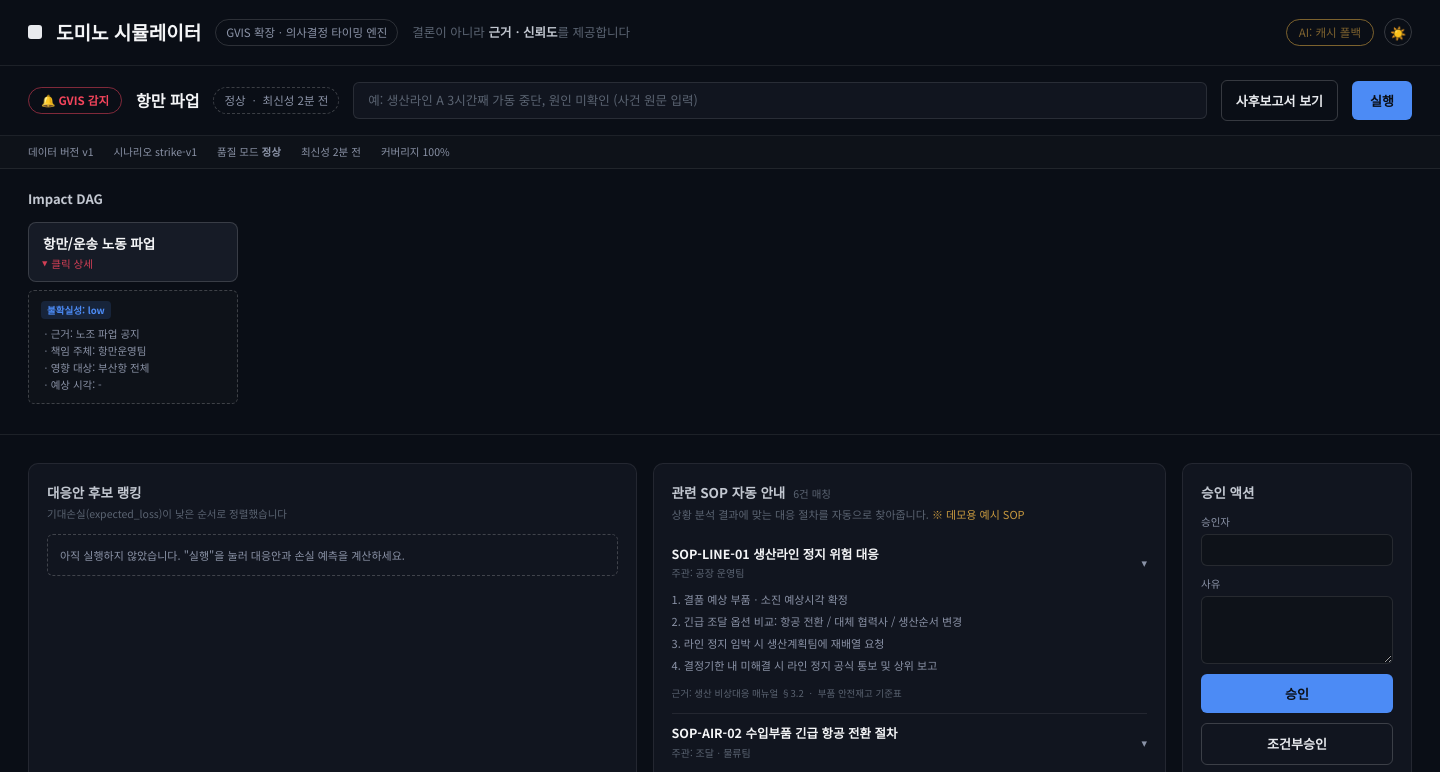
Test case: IncidentDetailPage — 담당자 승인 › 승인 제출이 실패하면 에러 문구를 보여주고 기존 화면은 유지한다
Expected: the text "항만 파업" is shown, [136,88,199,112]
Click the button "실행". click: (1382, 100)
box: [1352,80,1412,120]
(page scrolled)
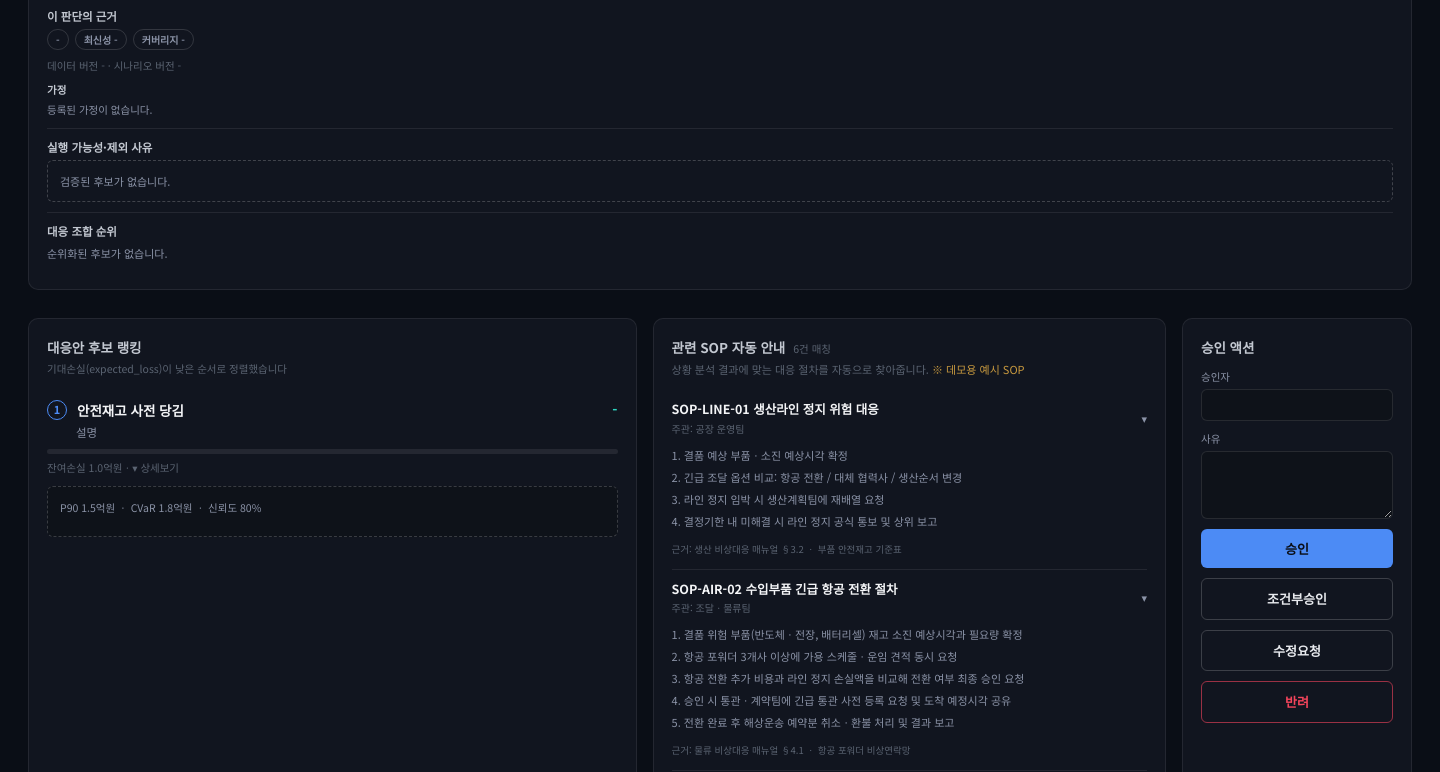
Expected: the text "안전재고 사전 당김" is shown, [77,400,184,420]
Type "김담당" into the field labelled "승인자". click: (1297, 405)
box: [1201,389,1393,421]
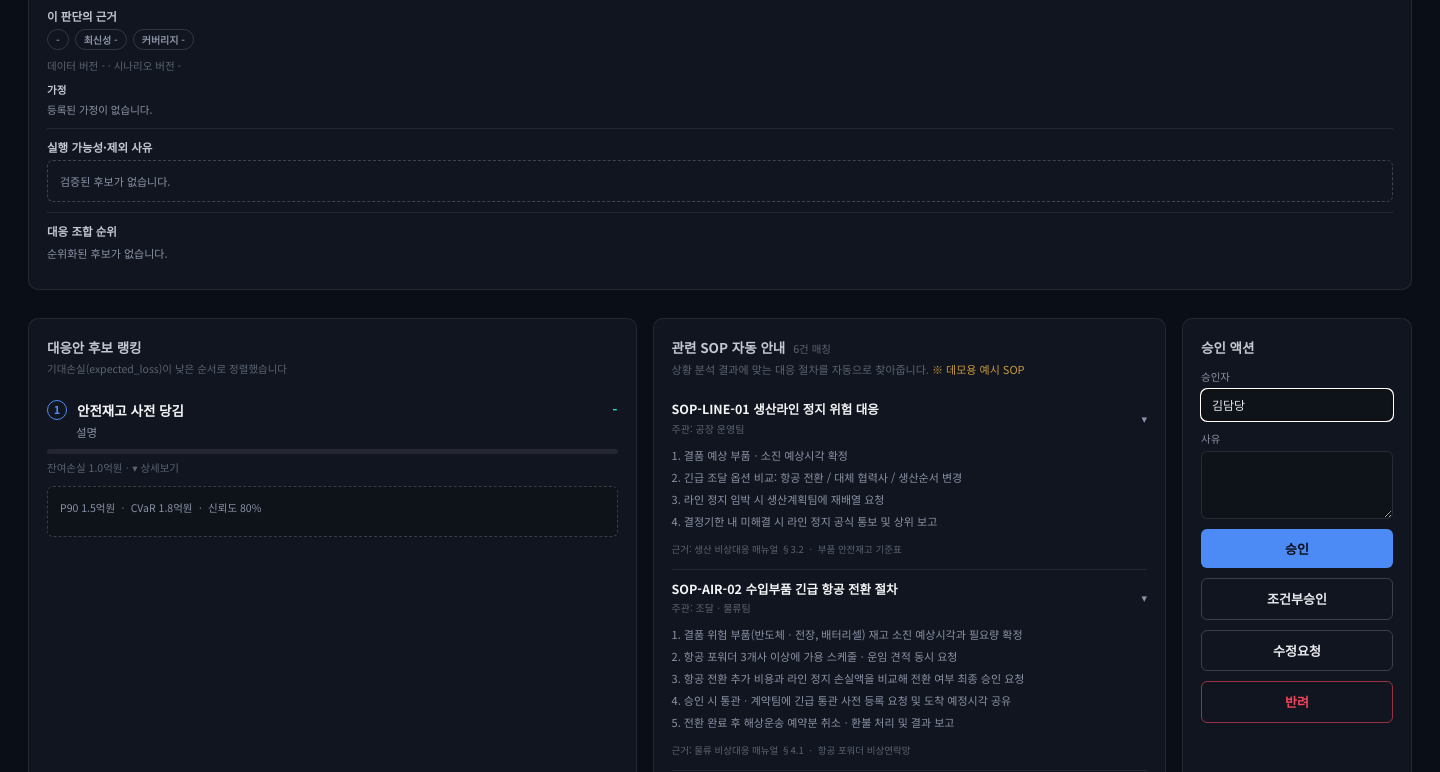
Type "사유 텍스트" into the text box labelled "사유". click: (1297, 485)
box: [1201,451,1393,519]
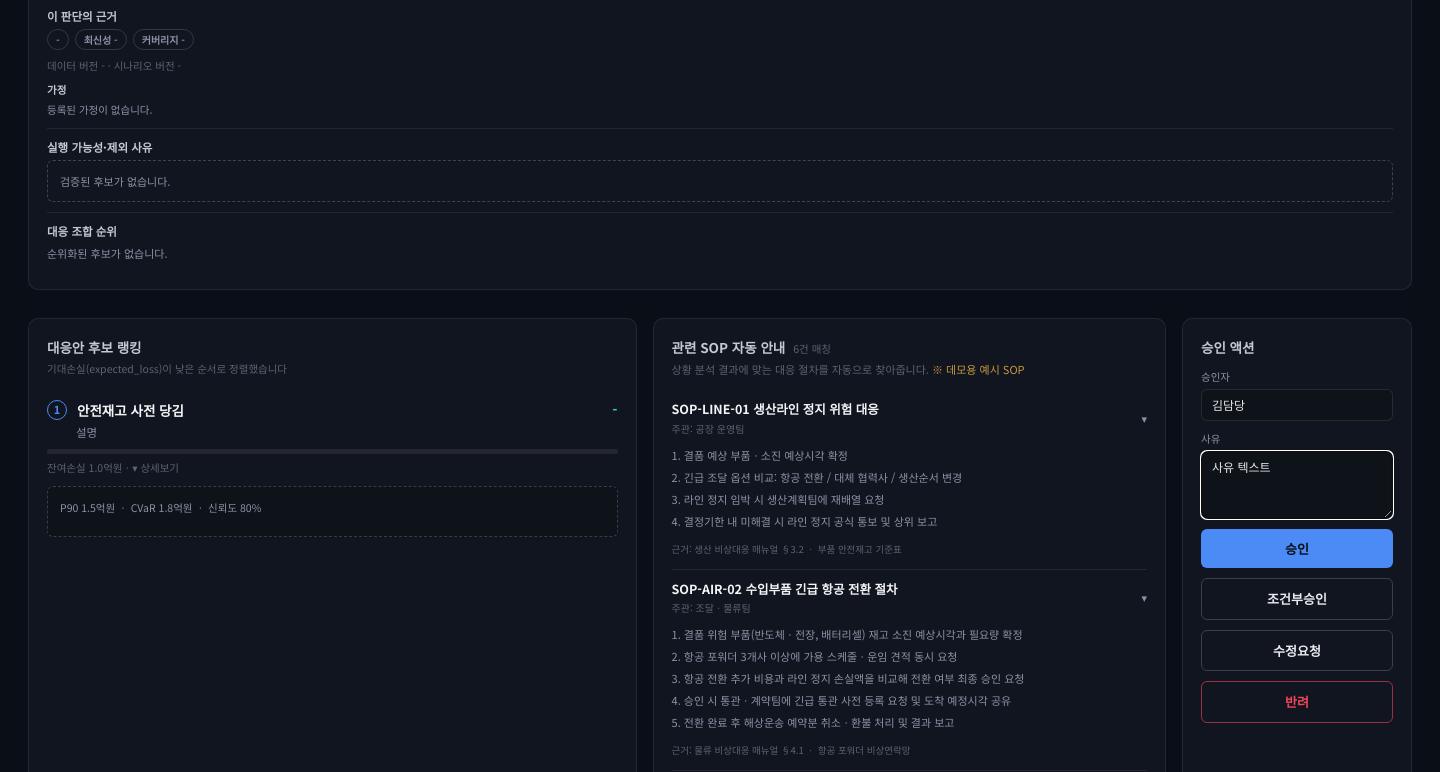
Click the button "승인". click: (1297, 549)
box: [1201,529,1393,568]
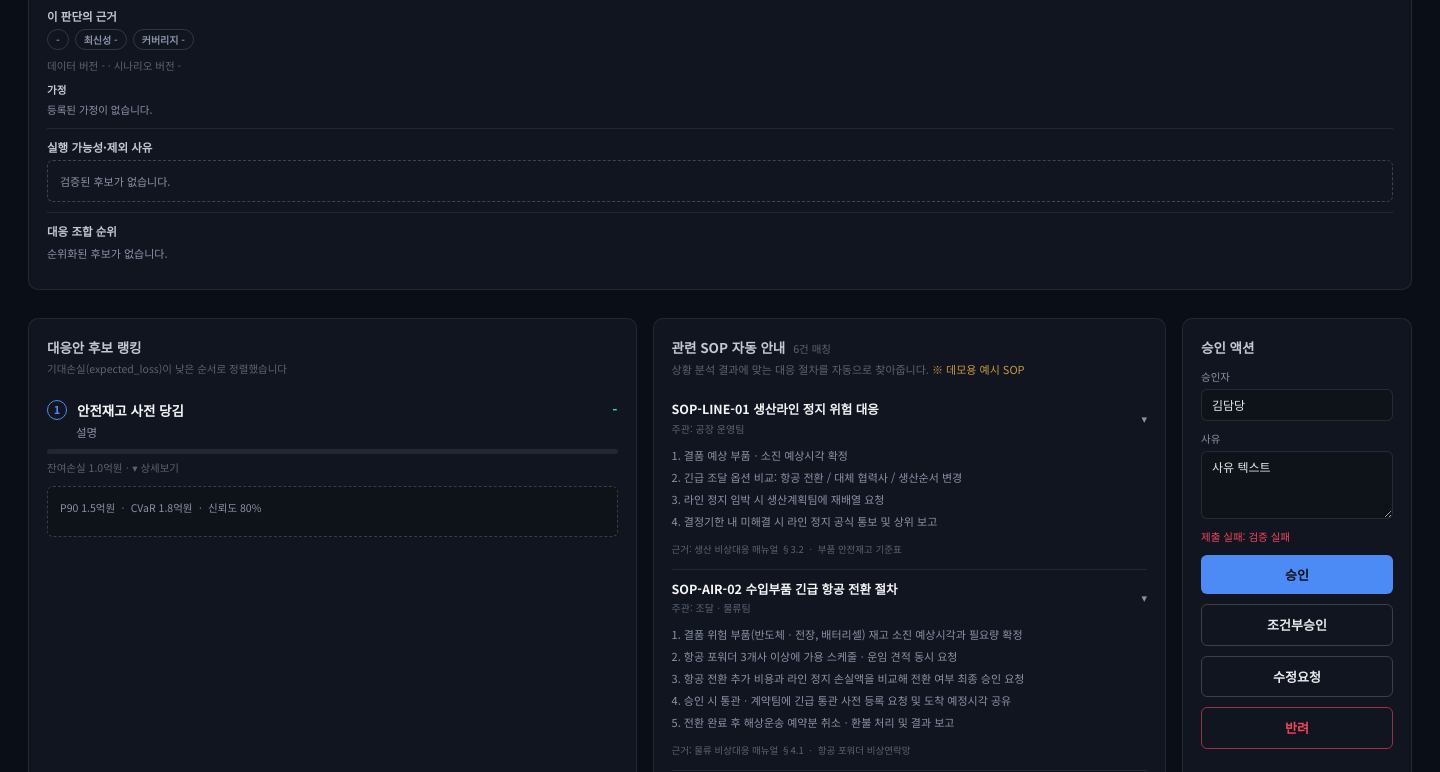
Expected: the text "안전재고 사전 당김" is shown, [77,400,184,420]
Expected: the text "제출 실패: 검증 실패" is shown, [1201,529,1290,544]
